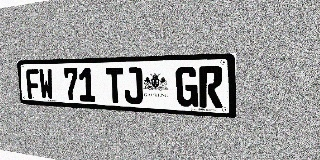1: (78, 68, 95, 102)
7: (63, 68, 79, 101)
F: (26, 69, 40, 99)
G: (176, 66, 198, 107)
J: (123, 67, 143, 104)
R: (199, 66, 223, 108)
T: (105, 67, 124, 103)
W: (39, 69, 54, 100)
